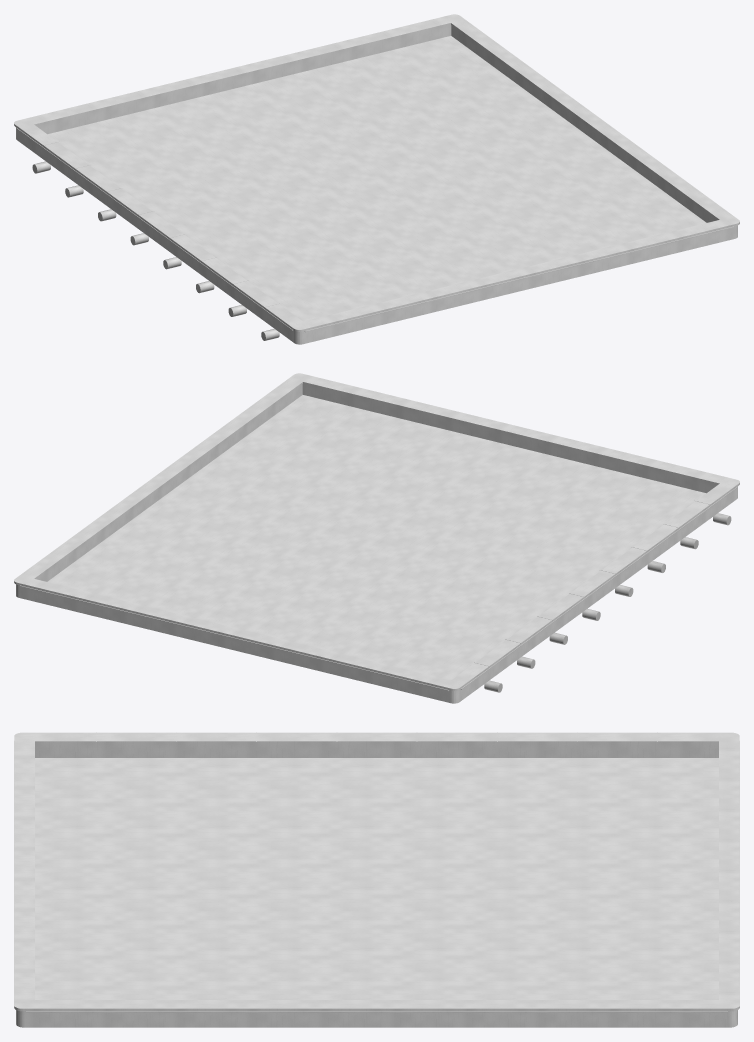
The model's file is SM_Homes_H01_Roof.glb.
3 renders of one model, top to bottom at view 1: azimuth 30°, elevation 25°; view 2: azimuth 150°, elevation 25°; view 3: azimuth 270°, elevation 25°, orthographic. The views are drawn at different scales.
Visible parts, largest first — view 1: SM_Homes_H01_Roof; view 2: SM_Homes_H01_Roof; view 3: SM_Homes_H01_Roof.
Boxes of the visible parts, x1,y1,x2,y2 form: SM_Homes_H01_Roof: (14,14,739,344); SM_Homes_H01_Roof: (14,373,739,703); SM_Homes_H01_Roof: (14,732,739,1027).
Bounding box in the file's own units: 9.26 × 0.479 × 10.06.
Materials: 6 (6 with a texture image).
